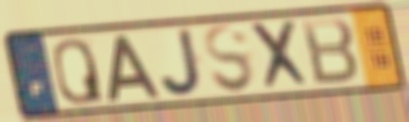A: (105, 32, 163, 104)
B: (298, 15, 361, 87)
J: (157, 26, 208, 100)
Q: (50, 36, 107, 107)
S: (201, 22, 258, 96)
X: (246, 18, 315, 93)
